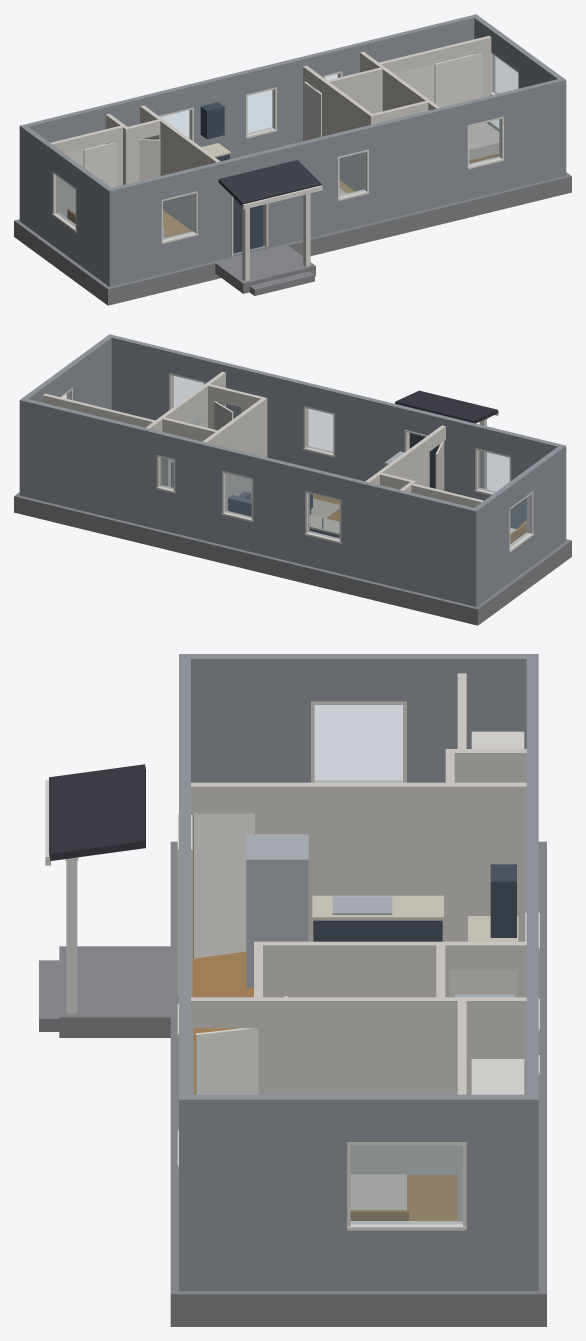
File: adu-660.glb
The picture shows the model from 3 angles, top to bottom: view 1: azimuth 30°, elevation 25°; view 2: azimuth 150°, elevation 25°; view 3: azimuth 270°, elevation 25°; orthographic projection. The views are drawn at different scales.
Visible parts, largest first — view 1: wall_south_seg3, foundation, wall_south_seg4, wall_south_seg2, wall_south_seg0, wall_west_seg1, wall_west_seg0, wall_south_seg1, wall_north_seg3, wall_north_seg1, part_mbed_east_seg0, wall_north_seg0 (+47 smaller); view 2: wall_north_seg3, wall_north_seg0, foundation, wall_north_seg1, wall_south_seg2, wall_south_seg3, wall_north_seg2, wall_south_seg4, wall_west_seg0, wall_west_seg1, wall_south_seg1, part_core_west_seg1 (+38 smaller); view 3: wall_east_seg1, part_mbed_east_seg0, part_core_east_seg0, foundation, wall_west_seg1, wall_east_seg0, wall_west_seg0, part_core_west_seg1, porch_slab, W8_glass, porch_roof, D02_mbed_panel (+27 smaller).
Part boxes in pixels (x1=…): wall_south_seg3: x1=366, y1=102, x2=467, y2=223; foundation: x1=14, y1=172, x2=571, y2=305; wall_south_seg4: x1=501, y1=79, x2=560, y2=190; wall_south_seg2: x1=265, y1=133, x2=337, y2=248; wall_south_seg0: x1=112, y1=176, x2=161, y2=285; wall_west_seg1: x1=76, y1=166, x2=114, y2=286; wall_west_seg0: x1=19, y1=124, x2=57, y2=244; wall_south_seg1: x1=195, y1=159, x2=231, y2=265; wall_north_seg3: x1=340, y1=15, x2=474, y2=76; wall_north_seg1: x1=191, y1=71, x2=245, y2=158; part_mbed_east_seg0: x1=140, y1=105, x2=211, y2=231; wall_north_seg0: x1=25, y1=93, x2=157, y2=144; wall_north_seg3: x1=25, y1=399, x2=159, y2=528; wall_north_seg0: x1=341, y1=476, x2=473, y2=605; foundation: x1=14, y1=492, x2=571, y2=625; wall_north_seg1: x1=253, y1=455, x2=307, y2=564; wall_south_seg2: x1=335, y1=390, x2=407, y2=481; wall_south_seg3: x1=205, y1=358, x2=306, y2=466; wall_north_seg2: x1=175, y1=436, x2=224, y2=544; wall_south_seg4: x1=111, y1=335, x2=171, y2=420; wall_west_seg0: x1=471, y1=486, x2=509, y2=606; wall_west_seg1: x1=528, y1=444, x2=566, y2=564; wall_south_seg1: x1=441, y1=416, x2=477, y2=498; part_core_west_seg1: x1=215, y1=399, x2=264, y2=510; wall_east_seg1: x1=179, y1=1094, x2=346, y2=1290; part_mbed_east_seg0: x1=256, y1=782, x2=526, y2=941; part_core_east_seg0: x1=258, y1=997, x2=526, y2=1174; foundation: x1=170, y1=841, x2=546, y2=1326; wall_west_seg1: x1=179, y1=654, x2=310, y2=846; wall_east_seg0: x1=466, y1=1094, x2=538, y2=1290; wall_west_seg0: x1=407, y1=654, x2=538, y2=782; part_core_west_seg1: x1=263, y1=941, x2=449, y2=997; porch_slab: x1=59, y1=946, x2=178, y2=1037; W8_glass: x1=351, y1=1146, x2=462, y2=1223; porch_roof: x1=49, y1=764, x2=145, y2=860; D02_mbed_panel: x1=193, y1=813, x2=255, y2=958.
Bounding box in the file's own units: 13.62 × 3.14 × 6.46.
